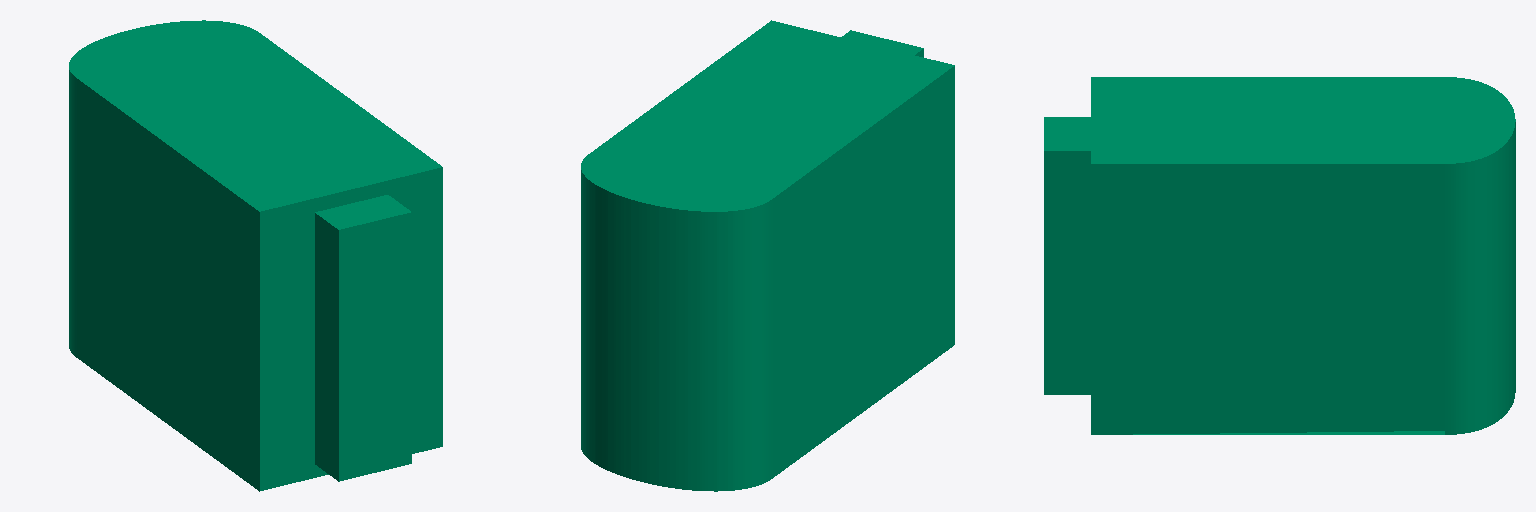
URDF robot description (2v2_65.35_65.35_1.1_63):
<?xml version="1.0" ?>
<robot name="2v2_65.35_65.35_1.1_63">

    <link name="palm">
        <visual>
            <origin rpy="0 0 0" xyz="0 0 0"/>
            <geometry>
                <mesh filename="obj_files/palm.obj" scale="1 1 1"/>
            </geometry>
        </visual>
        <collision>
            <geometry>
                <mesh filename="obj_files/palm_collision.obj" scale="1 1 1"/>
            </geometry>
        </collision>
    </link>

    <link name="finger0_segment0">
        <visual>
            <origin rpy="0 0 0" xyz="0 0 0"/>
            <geometry>
                <mesh filename="obj_files/finger0_segment0.obj" scale="1 1 1"/>
            </geometry>
        </visual>
        <collision>
            <geometry>
                <mesh filename="obj_files/finger0_segment0_collision.obj" scale="1 1 1"/>
            </geometry>
        </collision>
    </link>

    <joint name="finger0_segment0_joint" type="revolute">
        <parent link="palm"/>
        <child link="finger0_segment0"/>
        <origin rpy="0 0 0" xyz="0.03175 0 0.0"/>
        <axis xyz="0 0 1"/>
        <limit effort="1000.0" lower="-3.14" upper="3.14" velocity="0.5"/>
    </joint>

    <link name="finger0_segment1">
        <visual>
            <origin rpy="0 0 0" xyz="0 0 0"/>
            <geometry>
                <mesh filename="obj_files/finger0_segment1.obj" scale="1 1 1"/>
            </geometry>
        </visual>
        <collision>
            <geometry>
                <mesh filename="obj_files/finger0_segment1_collision.obj" scale="1 1 1"/>
            </geometry>
        </collision>
    </link>

    <joint name="finger0_segment1_joint" type="revolute">
        <parent link="finger0_segment0"/>
        <child link="finger0_segment1"/>
        <origin rpy="0 0 0" xyz="0 0.0936 0"/>
        <axis xyz="0 0 1"/>
        <limit effort="1000.0" lower="-3.14" upper="3.14" velocity="0.5"/>
    </joint>

    <link name="finger1_segment0">
        <visual>
            <origin rpy="0 0 0" xyz="0 0 0"/>
            <geometry>
                <mesh filename="obj_files/finger1_segment0.obj" scale="1 1 1"/>
            </geometry>
        </visual>
        <collision>
            <geometry>
                <mesh filename="obj_files/finger1_segment0_collision.obj" scale="1 1 1"/>
            </geometry>
        </collision>
    </link>

    <joint name="finger1_segment0_joint" type="revolute">
        <parent link="palm"/>
        <child link="finger1_segment0"/>
        <origin rpy="0 0 0" xyz="-0.03175 0 3.888253587292846e-18"/>
        <axis xyz="0 0 1"/>
        <limit effort="1000.0" lower="-3.14" upper="3.14" velocity="0.5"/>
    </joint>

    <link name="finger1_segment1">
        <visual>
            <origin rpy="0 0 0" xyz="0 0 0"/>
            <geometry>
                <mesh filename="obj_files/finger1_segment1.obj" scale="1 1 1"/>
            </geometry>
        </visual>
        <collision>
            <geometry>
                <mesh filename="obj_files/finger1_segment1_collision.obj" scale="1 1 1"/>
            </geometry>
        </collision>
    </link>

    <joint name="finger1_segment1_joint" type="revolute">
        <parent link="finger1_segment0"/>
        <child link="finger1_segment1"/>
        <origin rpy="0 0 0" xyz="0 0.0936 0"/>
        <axis xyz="0 0 1"/>
        <limit effort="1000.0" lower="-3.14" upper="3.14" velocity="0.5"/>
    </joint>

</robot>

--- Facts derived from the render (not from the file) ---
3 views of the same robot in one strip: view 1: azimuth 30°, elevation 25°; view 2: azimuth 150°, elevation 25°; view 3: azimuth 270°, elevation 25° (orthographic).
Model 2v2_65.35_65.35_1.1_63 with 5 links and 4 joints (4 revolute), rooted at palm, posed every joint at zero.
Links seen in each view (by area): view 1: finger0_segment1; view 2: finger0_segment1; view 3: finger0_segment1.
Link boxes in pixels (<box>): finger0_segment1: <box>69,20,442,491</box>; finger0_segment1: <box>581,20,954,491</box>; finger0_segment1: <box>1044,77,1515,434</box>.
Size in the robot's own frame: 0.022 by 0.0504 by 0.032 metres.
Meshes: 5 distinct files referenced, 1 mesh visuals loaded (1 OBJ); not drawn: 4 (reference not matched to a file when rendering).